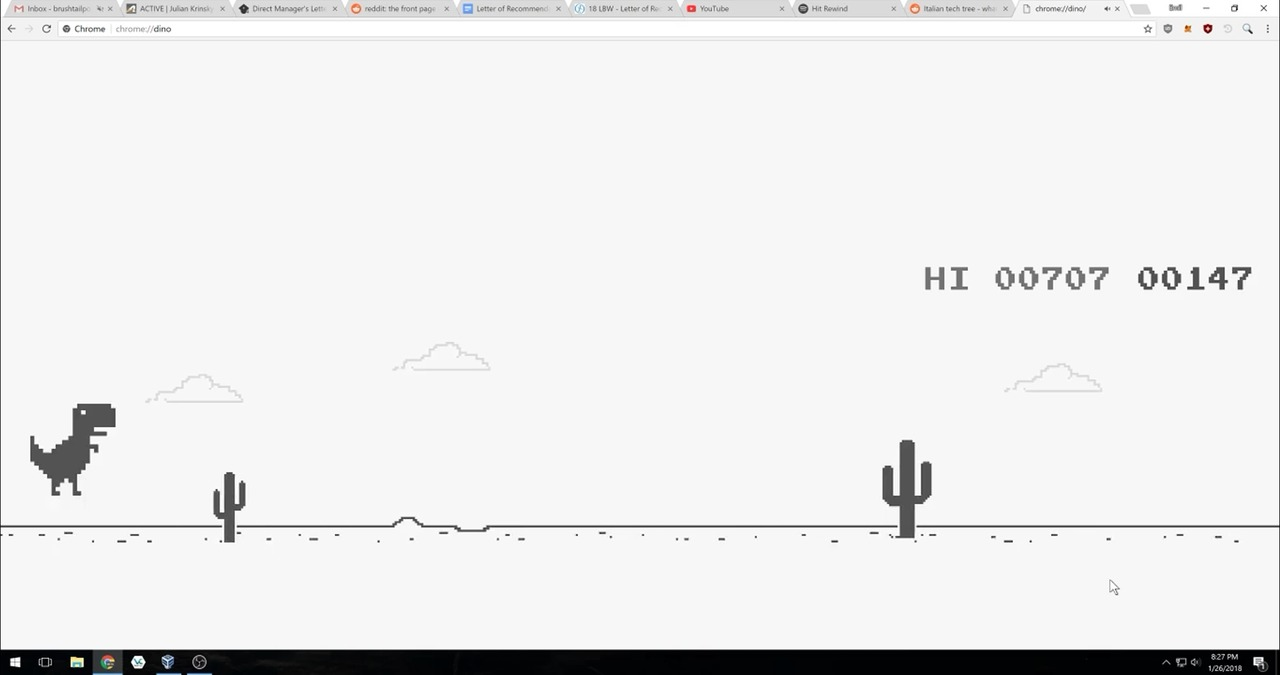cactus: (877, 434, 939, 543), (205, 468, 251, 546)
dinosaur: (27, 397, 118, 499)
